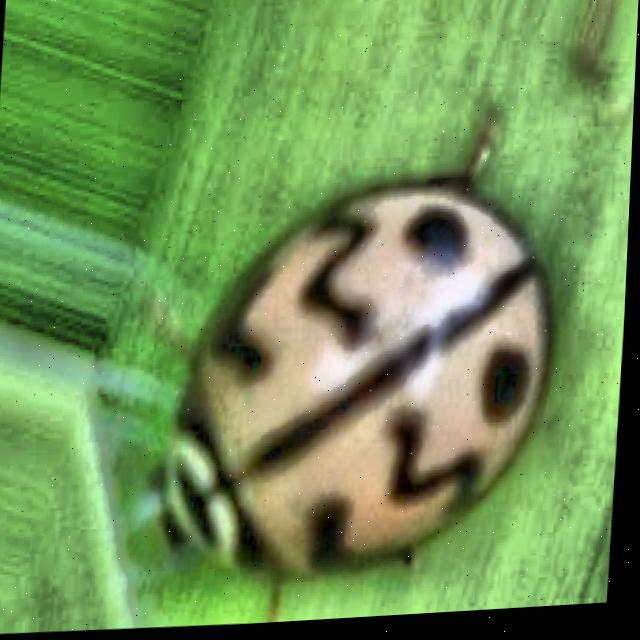Asian-Lady-beetle: (98, 67, 637, 634)
